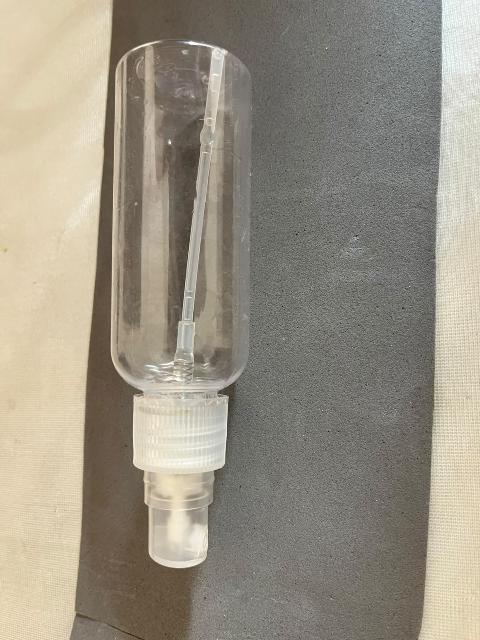PET: (63, 40, 336, 571)
